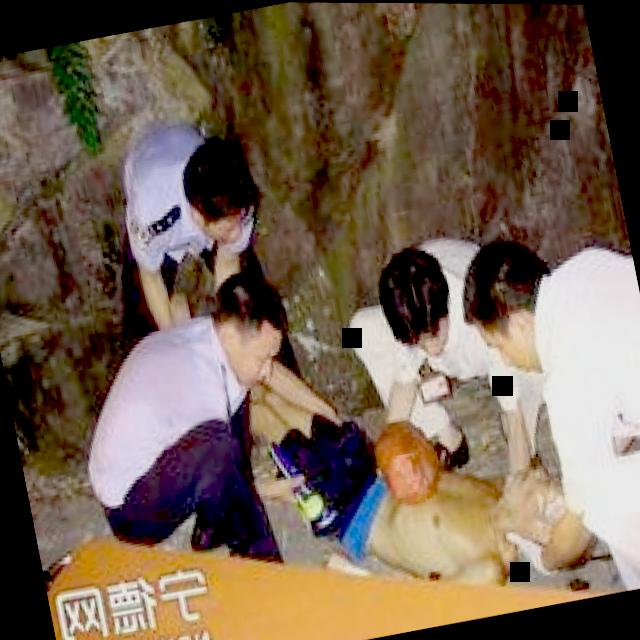Fall-Detected: (220, 275, 538, 618)
